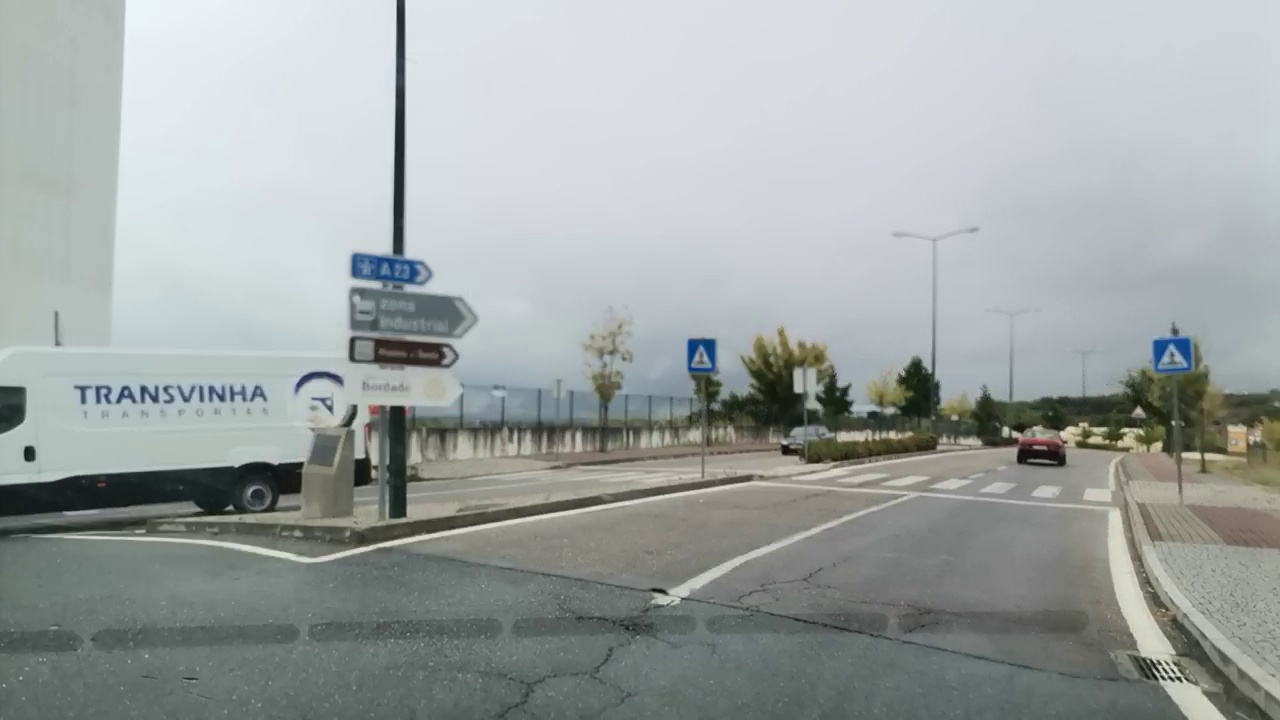Stairs: (773, 466, 1117, 507)
